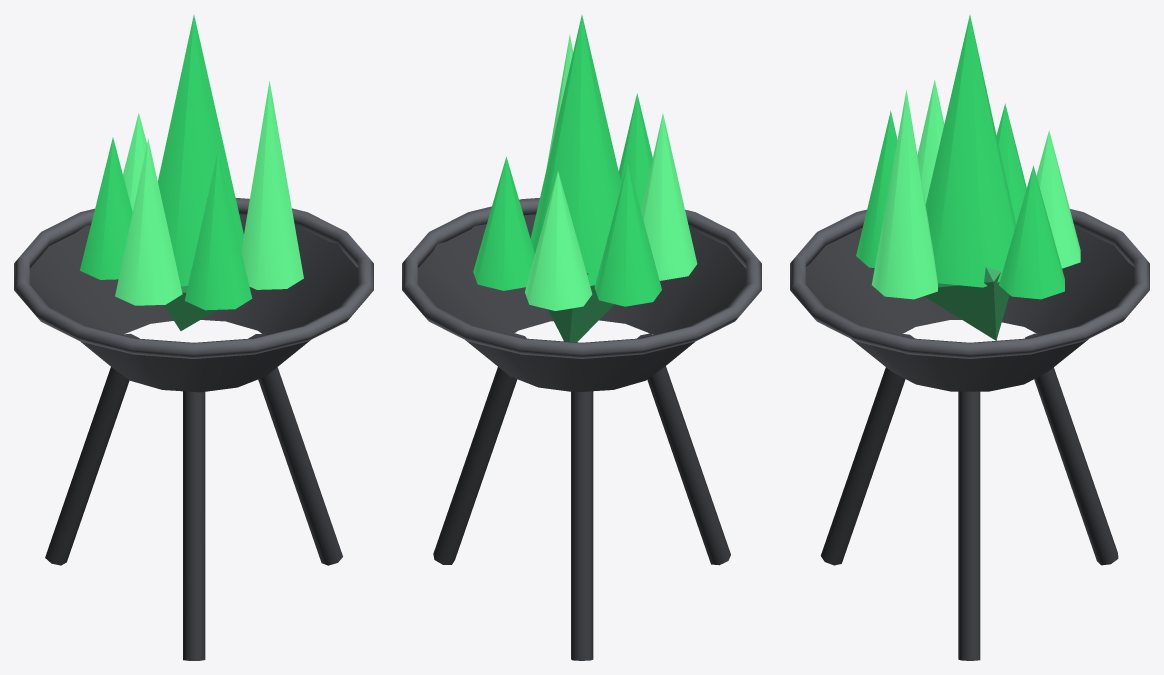
The model's file is signalfeuer.glb.
3 views of the same model, side by side, from view 1: azimuth 30°, elevation 25°; view 2: azimuth 150°, elevation 25°; view 3: azimuth 270°, elevation 25° (orthographic).
Parts seen in each view (by area): view 1: modell, flammen; view 2: modell, flammen; view 3: modell, flammen.
Boxes of the visible parts, bbox=[...] form: modell: bbox=[14, 198, 373, 660]; flammen: bbox=[80, 15, 303, 310]; modell: bbox=[402, 198, 761, 660]; flammen: bbox=[473, 15, 697, 310]; modell: bbox=[790, 209, 1149, 660]; flammen: bbox=[856, 15, 1080, 299].
Bounding box in the file's own units: 1.26 × 2.21 × 1.24.
